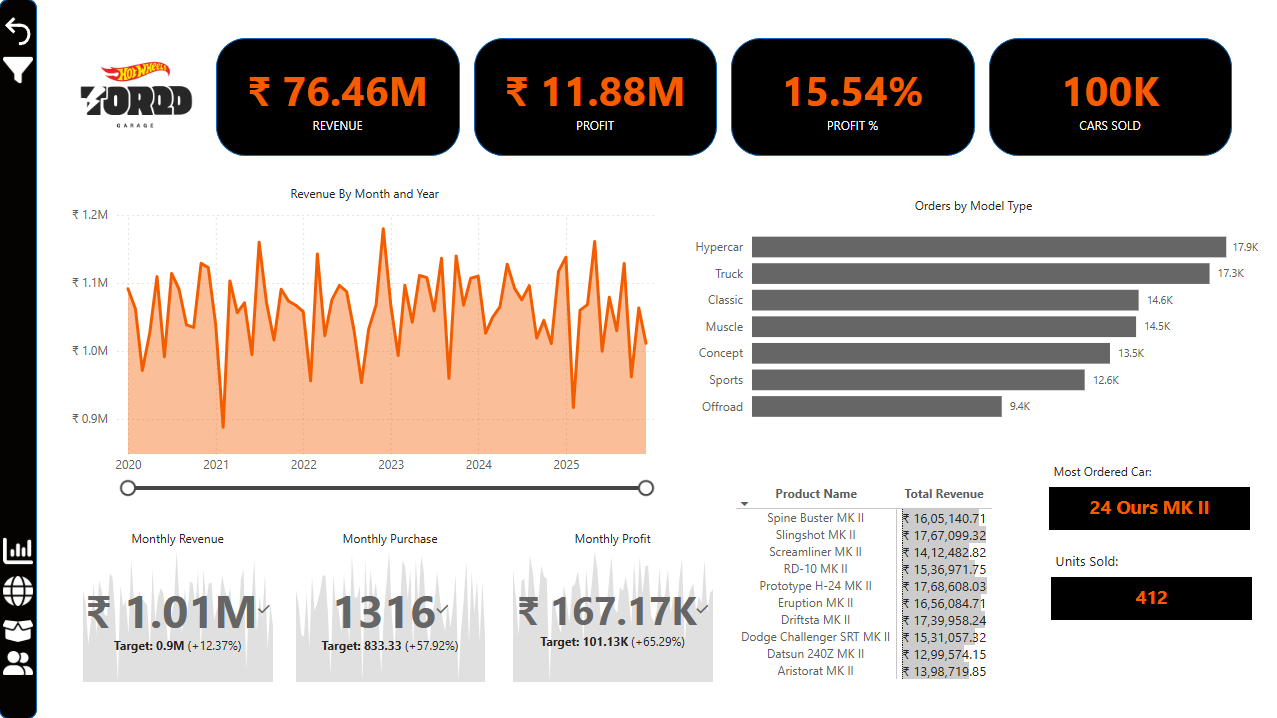

This screenshot's page, from the dashboard's own definition file:
{"tool":"powerbi","page":{"name":"Executive Sales Dashboard","canvas":[1280,720],"ordinal":0},"visuals":[{"type":"image","box":[37.9,0,196.6,197.7],"z":0},{"type":"actionButton","box":[0,532.2,37.8,40],"z":0,"group":"g1"},{"type":"shape","title":"Navigation BG","box":[0,0,37.8,720],"z":1000},{"type":"actionButton","box":[0,644.4,37.8,40],"z":1000,"group":"g1"},{"type":"shape","box":[217.2,39.1,243.7,118.4],"z":2000},{"type":"actionButton","box":[0,572.2,37.8,40],"z":2000,"group":"g1"},{"type":"card","fields":{"Values":["Measure Table.Total Revenue"]},"box":[233.3,50.6,210.3,95.4],"z":3000},{"type":"actionButton","box":[0,612.2,37.8,40],"z":3000,"group":"g1"},{"type":"shape","box":[474.7,39.1,243.7,118.4],"z":4000},{"type":"card","fields":{"Values":["Measure Table.Total Profit"]},"box":[490.8,50.6,210.3,95.4],"z":5000},{"type":"shape","box":[732.2,39.1,243.7,118.4],"z":6000},{"type":"card","fields":{"Values":["Measure Table.Profit %"]},"box":[748.3,50.6,210.3,95.4],"z":7000},{"type":"shape","box":[989.7,39.1,243.7,118.4],"z":8000},{"type":"card","fields":{"Values":["Measure Table.Total Units Sold"]},"box":[1005.7,50.6,210.3,95.4],"z":9000},{"type":"areaChart","title":"Revenue By Month and Year","fields":{"Category":["date_table.StartOfMonth"],"Y":["Measure Table.Total Revenue"]},"box":[66.7,186.4,598.8,313.6],"z":10000},{"type":"kpi","title":"Monthly Revenue","fields":{"Indicator":["Measure Table.Total Revenue"],"TrendLine":["date_table.StartOfMonth"],"Goal":["Measure Table.Revenue Target"]},"box":[79,530.8,199.8,156.8],"z":11000},{"type":"kpi","title":"Monthly Purchase","fields":{"Indicator":["Measure Table.Total Units Sold"],"Goal":["Measure Table.Monthly Units Sold Target"],"TrendLine":["date_table.StartOfMonth"]},"box":[291.5,530.8,199.8,156.8],"z":12000},{"type":"kpi","title":"Monthly Profit","fields":{"TrendLine":["date_table.StartOfMonth"],"Indicator":["Measure Table.Total Profit"],"Goal":["Measure Table.Profit Target Amount"]},"box":[508.7,530.8,210.2,156.8],"z":13000},{"type":"clusteredBarChart","title":"Orders by Model Type","fields":{"Category":["cars.ModelType"],"Y":["Measure Table.Total Units Sold"]},"box":[685.6,197.8,578.9,236.7],"z":14000},{"type":"pivotTable","fields":{"Values":["Measure Table.Total Revenue"],"Rows":["cars.Name"]},"box":[731.8,480.7,306.8,206.8],"z":15000},{"type":"card","fields":{"Values":["Min(cars.Name)"]},"box":[1050,487.8,201.1,43.3],"z":16000},{"type":"textbox","box":[1050,457.8,184.4,30],"z":17000},{"type":"card","fields":{"Values":["Sum(sales.Quantity)"]},"box":[1052.2,577.8,201.1,43.3],"z":18000},{"type":"textbox","box":[1052.2,547.8,184.4,30],"z":19000},{"type":"actionButton","box":[0,12.5,51.1,38.6],"z":20000},{"type":"group","id":"g1","title":"Navigation Buttons","box":[0,532.2,37.8,152.2],"z":21000},{"type":"actionButton","box":[0,50.6,37.9,40.2],"z":23000}]}

Visuals, with their boxes on the page's 1280x720 design canvas (x1, y1, x2, y2). These are canvas units, not pixel positions in the 1277x718 screenshot, which may show the page scaled, cropped or inside an application window:
image: crop(38, 0, 234, 198)
actionButton: crop(0, 532, 38, 572)
"Navigation BG" shape: crop(0, 0, 38, 720)
actionButton: crop(0, 644, 38, 684)
shape: crop(217, 39, 461, 158)
actionButton: crop(0, 572, 38, 612)
card - Measure Table.Total Revenue: crop(233, 51, 444, 146)
actionButton: crop(0, 612, 38, 652)
shape: crop(475, 39, 718, 158)
card - Measure Table.Total Profit: crop(491, 51, 701, 146)
shape: crop(732, 39, 976, 158)
card - Measure Table.Profit %: crop(748, 51, 959, 146)
shape: crop(990, 39, 1233, 158)
card - Measure Table.Total Units Sold: crop(1006, 51, 1216, 146)
"Revenue By Month and Year" areaChart: crop(67, 186, 666, 500)
"Monthly Revenue" kpi: crop(79, 531, 279, 688)
"Monthly Purchase" kpi: crop(292, 531, 491, 688)
"Monthly Profit" kpi: crop(509, 531, 719, 688)
"Orders by Model Type" clusteredBarChart: crop(686, 198, 1264, 434)
pivotTable - Measure Table.Total Revenue x cars.Name: crop(732, 481, 1039, 688)
card - Min(cars.Name): crop(1050, 488, 1251, 531)
textbox: crop(1050, 458, 1234, 488)
card - Sum(sales.Quantity): crop(1052, 578, 1253, 621)
textbox: crop(1052, 548, 1237, 578)
actionButton: crop(0, 12, 51, 51)
"Navigation Buttons" group: crop(0, 532, 38, 684)
actionButton: crop(0, 51, 38, 91)
